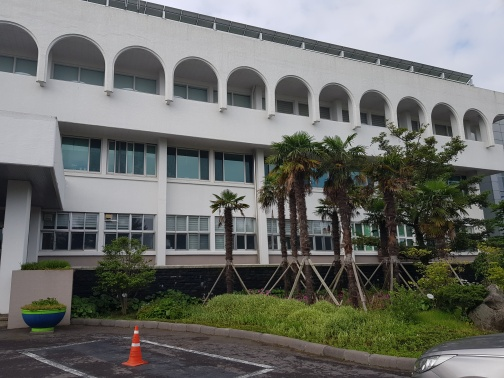Main Building of University: (4, 3, 493, 260), (42, 29, 315, 120), (319, 79, 490, 147)
